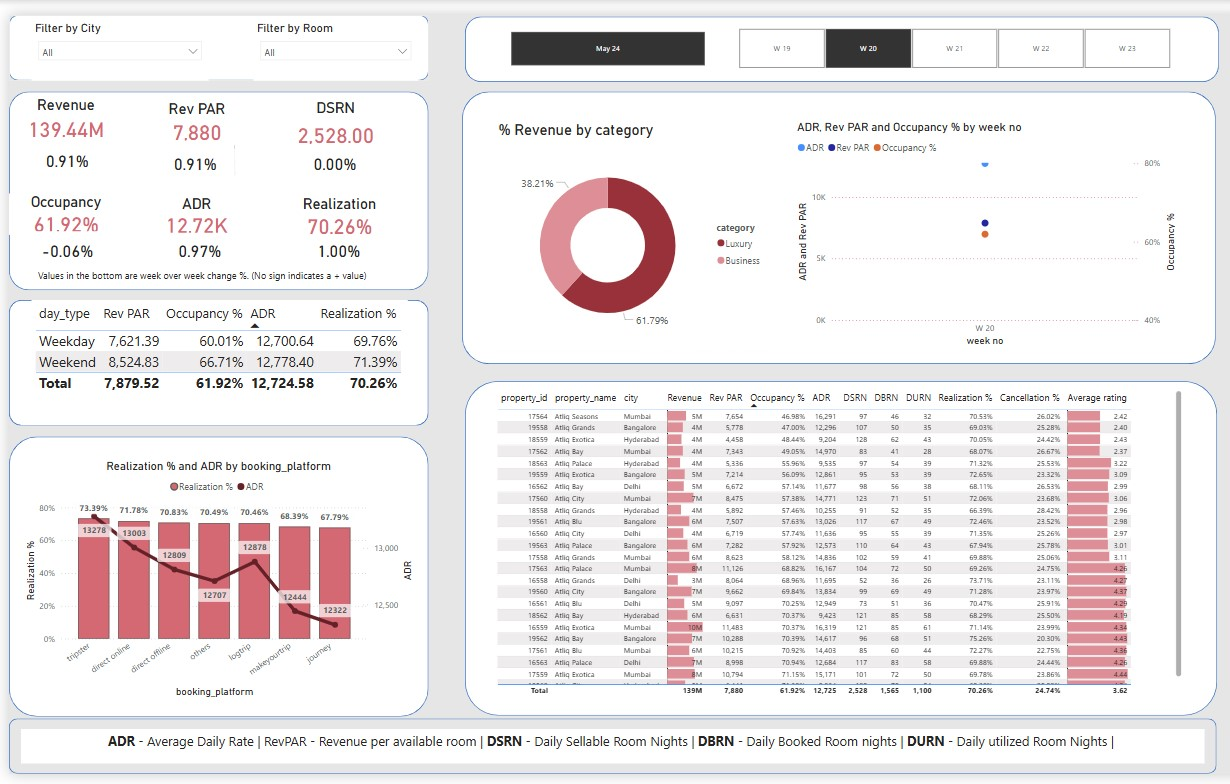

What the dashboard file says about the page in this screenshot:
{"tool":"powerbi","page":{"name":"Hospitality analytics dashboard","canvas":[1800,1100],"ordinal":0},"visuals":[{"type":"shape","box":[660,530,1090,485],"z":0},{"type":"shape","box":[657.5,110,1092.5,395],"z":1000},{"type":"shape","box":[0,110,608,288],"z":2000},{"type":"shape","box":[0,610,608,406],"z":3000},{"type":"shape","box":[0,412,608,182],"z":4000},{"type":"shape","box":[660,2.5,1092.5,95],"z":5000},{"type":"shape","box":[0,0,608.3,95],"z":6000},{"type":"tableEx","fields":{"Values":["dim_hotels.property_id","dim_hotels.property_name","dim_hotels.city","key_measures.Revenue","key_measures.Rev PAR","key_measures.Occupancy %","key_measures.ADR","key_measures.DSRN","key_measures.DBRN","key_measures.DURN","key_measures.Realization %","key_measures.Cancellation %"]},"box":[702.5,540,1002.5,452.5],"z":7000},{"type":"slicer","title":"Filter by City","fields":{"Values":["dim_hotels.city"]},"box":[33.3,8.3,256.7,86.7],"z":8000},{"type":"card","fields":{"Values":["key_measures.Revenue WoW change %"]},"box":[28,186,112,48],"z":9000},{"type":"slicer","title":"Filter by Room","fields":{"Values":["dim_rooms.room_class"]},"box":[353.3,8.3,238.3,86.7],"z":10000},{"type":"slicer","fields":{"Values":["dim_date.mmm yy"]},"box":[702.5,17.5,330,62.5],"z":11000},{"type":"card","title":"Revenue","fields":{"Values":["key_measures.Revenue"]},"box":[18,118,130,68],"z":12000},{"type":"donutChart","title":"% Revenue by category","fields":{"Category":["dim_hotels.category"],"Y":["key_measures.Revenue"]},"box":[703.3,153.3,400,333.3],"z":13000},{"type":"slicer","fields":{"Values":["dim_date.week no"]},"box":[1032,12,674,70],"z":14000},{"type":"tableEx","box":[253.3,163.3,73.3,70],"z":15000},{"type":"lineChart","fields":{"Category":["dim_date.week no"],"Y":["key_measures.ADR","key_measures.Rev PAR"],"Y2":["key_measures.Occupancy %"]},"box":[1137.5,152.5,557.5,332.5],"z":16000},{"type":"lineStackedColumnComboChart","fields":{"Category":["fact_bookings.booking_platform"],"Y":["key_measures.Realization %"],"Y2":["key_measures.ADR"]},"box":[17.5,642.5,572.5,350],"z":17000},{"type":"tableEx","fields":{"Values":["dim_date.day_type","key_measures.Rev PAR","key_measures.Occupancy %","key_measures.ADR","key_measures.Realization %"]},"box":[32.5,412.5,545,150],"z":18000},{"type":"card","title":"Rev PAR","fields":{"Values":["key_measures.Rev PAR"]},"box":[191.7,123.3,161.7,63.3],"z":19000},{"type":"card","title":"Realization","fields":{"Values":["key_measures.Realization %"]},"box":[398,260,162,62],"z":20000},{"type":"card","title":"ADR","fields":{"Values":["key_measures.ADR"]},"box":[211.7,260,121.7,60],"z":21000},{"type":"card","title":"Occupancy","fields":{"Values":["key_measures.Occupancy %"]},"box":[0,258.3,165,60],"z":22000},{"type":"card","title":"DSRN","fields":{"Values":["key_measures.DSRN"]},"box":[390,122,168,76],"z":23000},{"type":"shape","box":[0,1020,1750,80],"z":24000},{"type":"textbox","box":[17.5,1035,1715,50],"z":25000},{"type":"card","title":".","fields":{"Values":["key_measures.Rev PAR WoW change %"]},"box":[213.3,186.7,113.3,56.7],"z":26000},{"type":"card","fields":{"Values":["key_measures.Occupancy WoW change %"]},"box":[28.3,318.3,111.7,48.3],"z":27000},{"type":"card","fields":{"Values":["key_measures.ADR WoW change %"]},"box":[220,316.7,113.3,48.3],"z":28000},{"type":"card","fields":{"Values":["key_measures.Realisation WoW change %"]},"box":[422,318,112,48],"z":29000},{"type":"card","title":".","fields":{"Values":["key_measures.DSRN WoW change %"]},"box":[416,188,114,56],"z":30000},{"type":"textbox","box":[36,364,522,34],"z":31000}]}

Visuals, with their boxes on the page's 1800x1100 design canvas (x1, y1, x2, y2). These are canvas units, not pixel positions in the 1230x784 screenshot, which may show the page scaled, cropped or inside an application window:
shape: Rect(660, 530, 1750, 1015)
shape: Rect(658, 110, 1750, 505)
shape: Rect(0, 110, 608, 398)
shape: Rect(0, 610, 608, 1016)
shape: Rect(0, 412, 608, 594)
shape: Rect(660, 2, 1752, 98)
shape: Rect(0, 0, 608, 95)
tableEx - dim_hotels.property_id x dim_hotels.property_name: Rect(702, 540, 1705, 992)
"Filter by City" slicer: Rect(33, 8, 290, 95)
card - key_measures.Revenue WoW change %: Rect(28, 186, 140, 234)
"Filter by Room" slicer: Rect(353, 8, 592, 95)
slicer - dim_date.mmm yy: Rect(702, 18, 1032, 80)
"Revenue" card: Rect(18, 118, 148, 186)
"% Revenue by category" donutChart: Rect(703, 153, 1103, 487)
slicer - dim_date.week no: Rect(1032, 12, 1706, 82)
tableEx: Rect(253, 163, 327, 233)
lineChart - dim_date.week no x key_measures.ADR: Rect(1138, 152, 1695, 485)
lineStackedColumnComboChart - fact_bookings.booking_platform x key_measures.Realization %: Rect(18, 642, 590, 992)
tableEx - dim_date.day_type x key_measures.Rev PAR: Rect(32, 412, 578, 562)
"Rev PAR" card: Rect(192, 123, 353, 187)
"Realization" card: Rect(398, 260, 560, 322)
"ADR" card: Rect(212, 260, 333, 320)
"Occupancy" card: Rect(0, 258, 165, 318)
"DSRN" card: Rect(390, 122, 558, 198)
shape: Rect(0, 1020, 1750, 1100)
textbox: Rect(18, 1035, 1732, 1085)
"." card: Rect(213, 187, 327, 243)
card - key_measures.Occupancy WoW change %: Rect(28, 318, 140, 367)
card - key_measures.ADR WoW change %: Rect(220, 317, 333, 365)
card - key_measures.Realisation WoW change %: Rect(422, 318, 534, 366)
"." card: Rect(416, 188, 530, 244)
textbox: Rect(36, 364, 558, 398)
